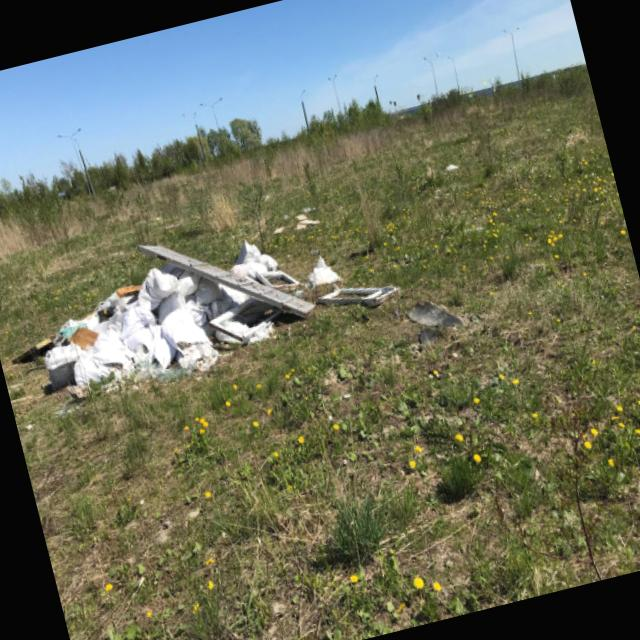garbage: (0, 204, 312, 436)
